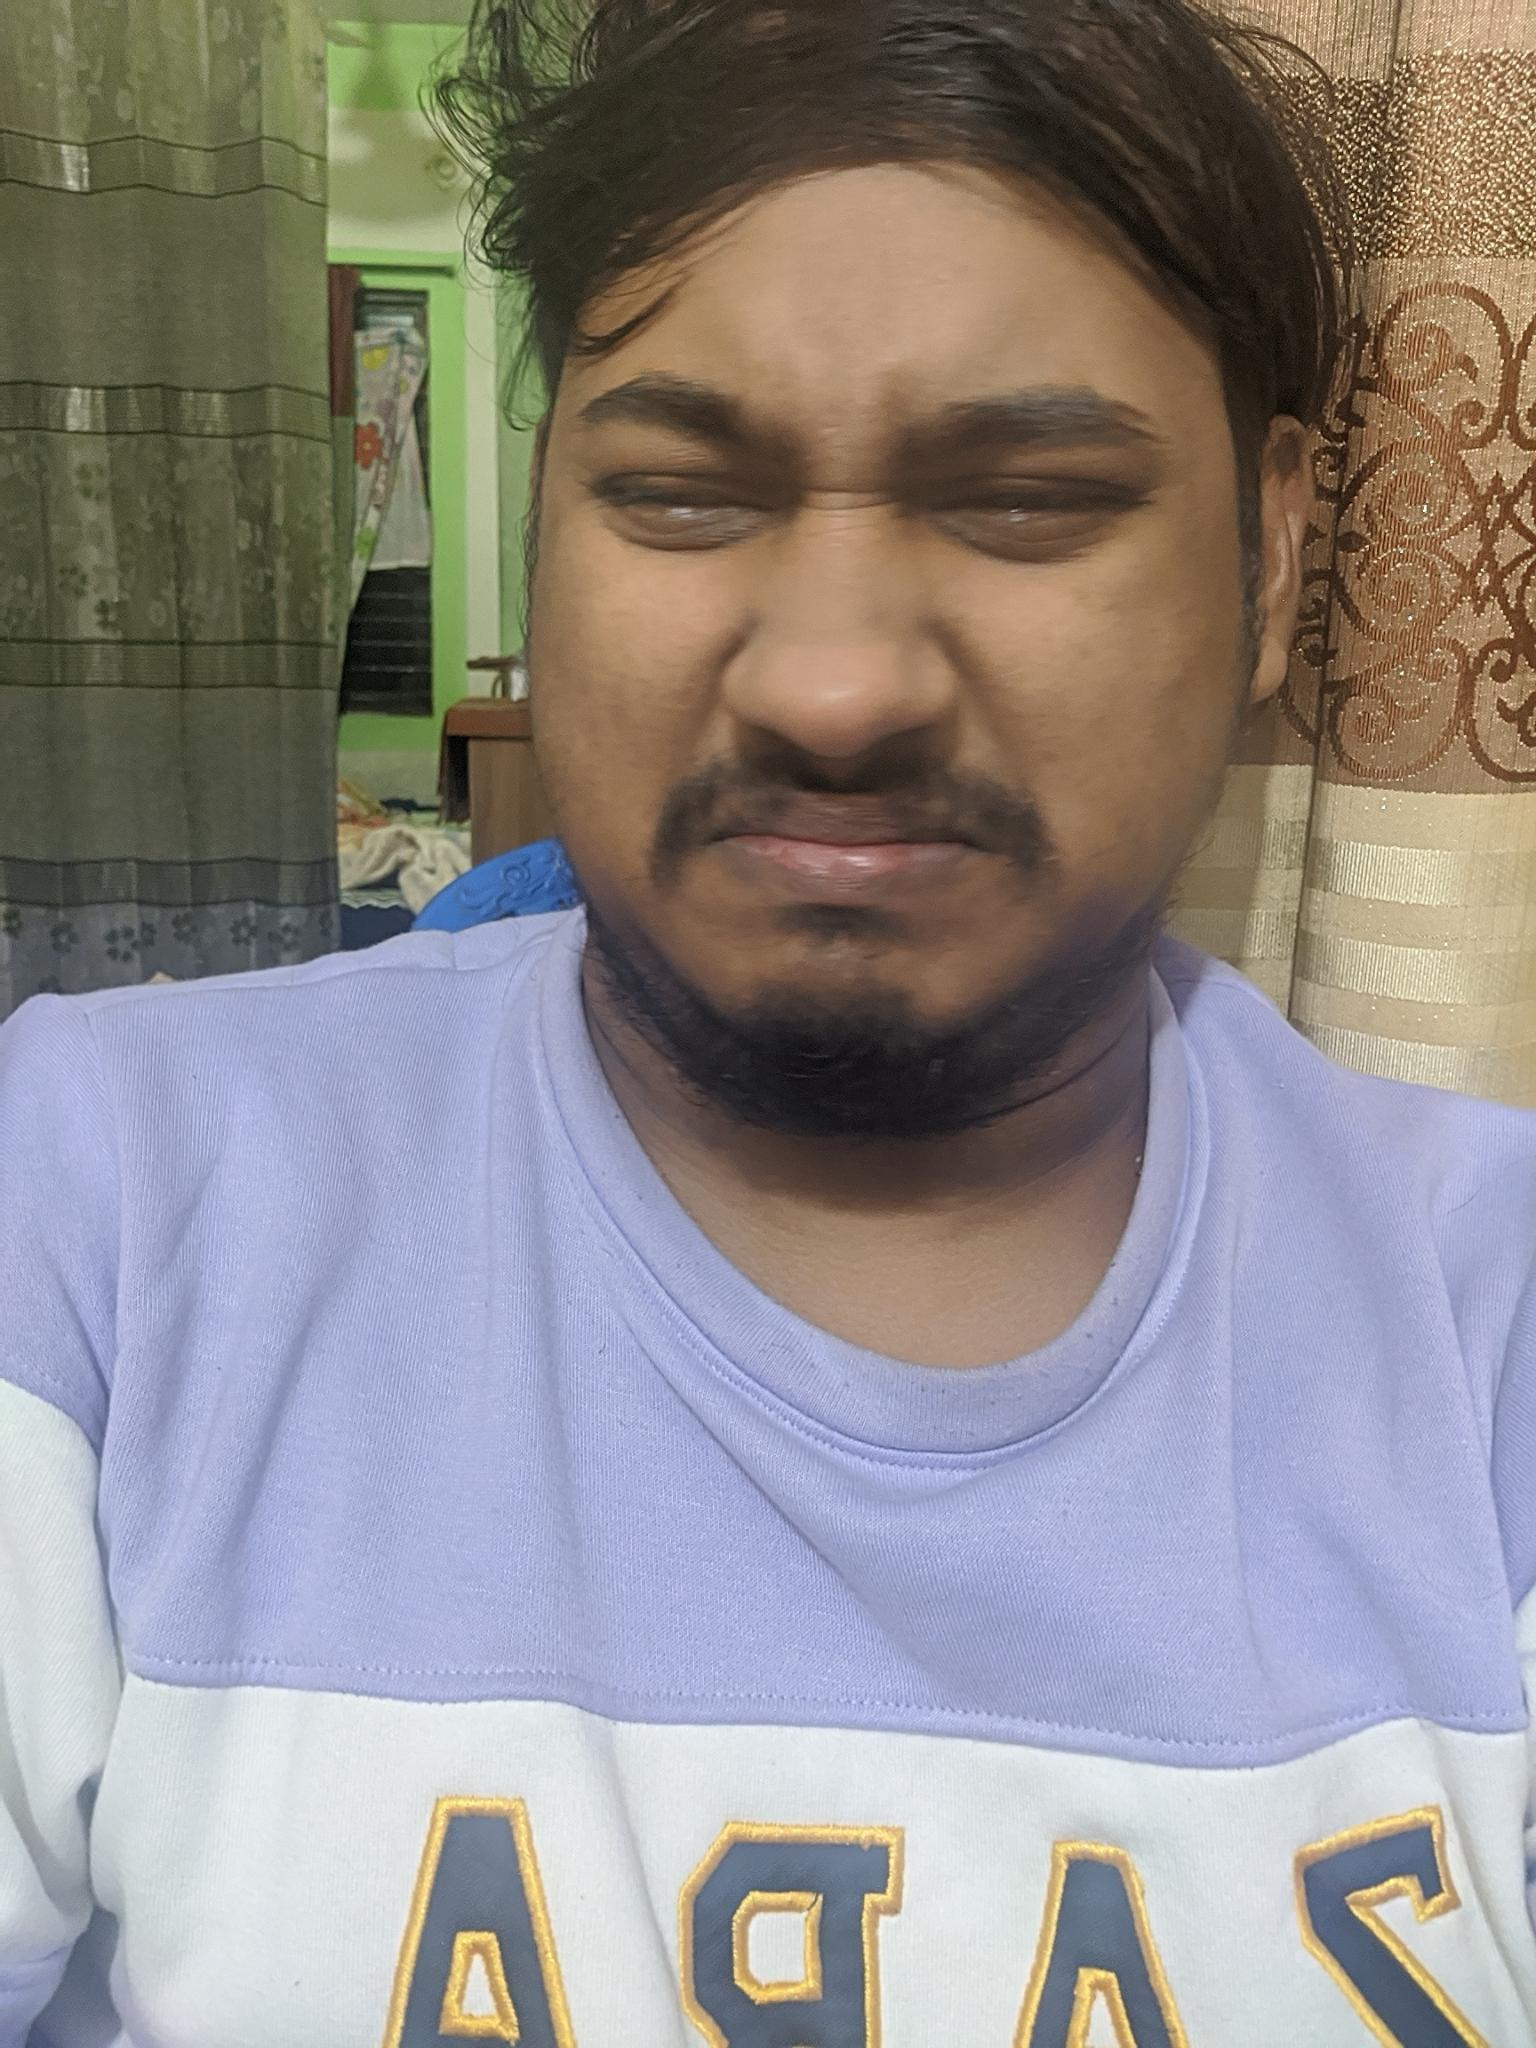Disgust: (516, 276, 1223, 1069)
